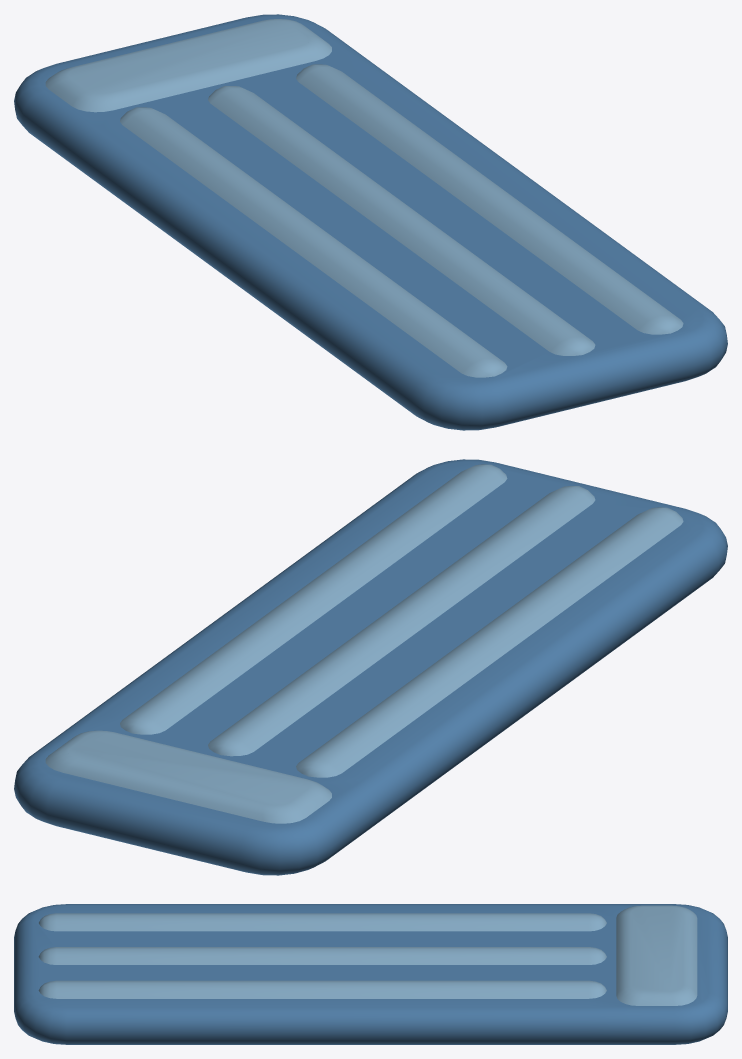
The model's file is Airbed02.fbx.
3 views of the same model, one above another, from view 1: azimuth 30°, elevation 25°; view 2: azimuth 150°, elevation 25°; view 3: azimuth 270°, elevation 25° (orthographic). The views are drawn at different scales.
Parts seen in each view (by area): view 1: Airbed02; view 2: Airbed02; view 3: Airbed02.
Boxes of the visible parts, x1,y1,x2,y2 form: Airbed02: [14, 14, 727, 430]; Airbed02: [14, 459, 727, 875]; Airbed02: [14, 904, 727, 1044].
Bounding box in the file's own units: 58.79 × 11.6 × 150.
